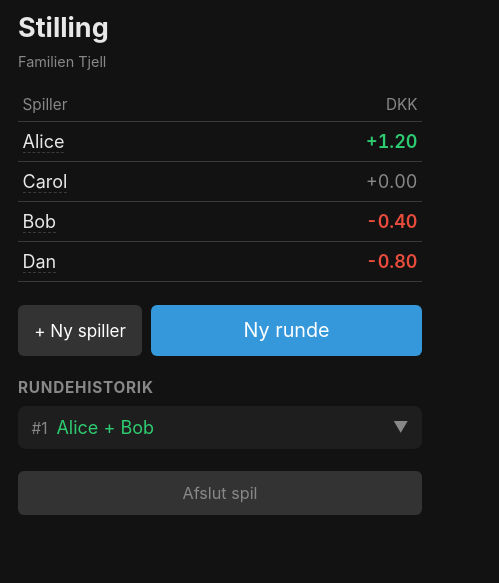
Test case: Scoreboard › add player button is disabled when name input is empty
Click the button "+ Ny spiller".
click(80, 330)  # box [18, 305, 142, 356]
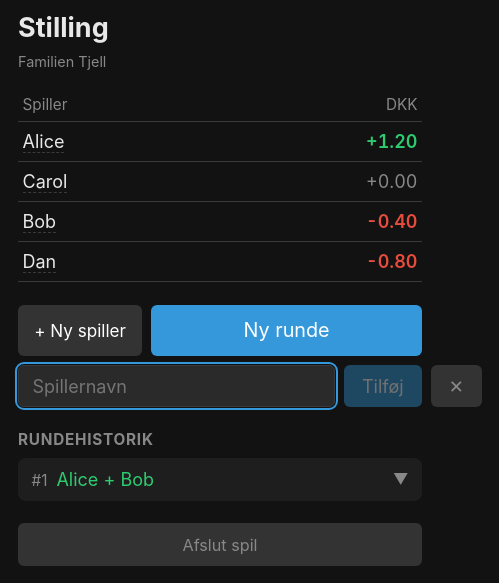
Check: the button "Tilføj" is disabled, box [344, 365, 422, 408]
